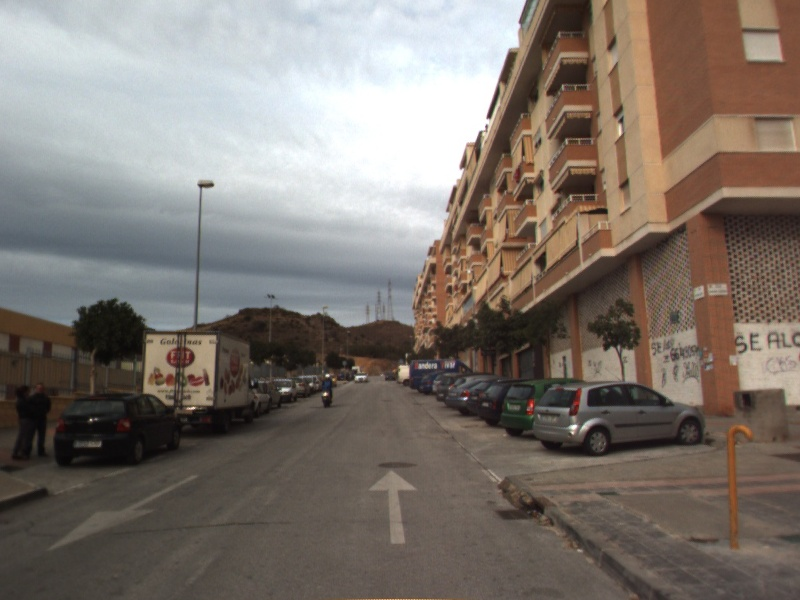STRAIGHT: (366, 467, 420, 546)
